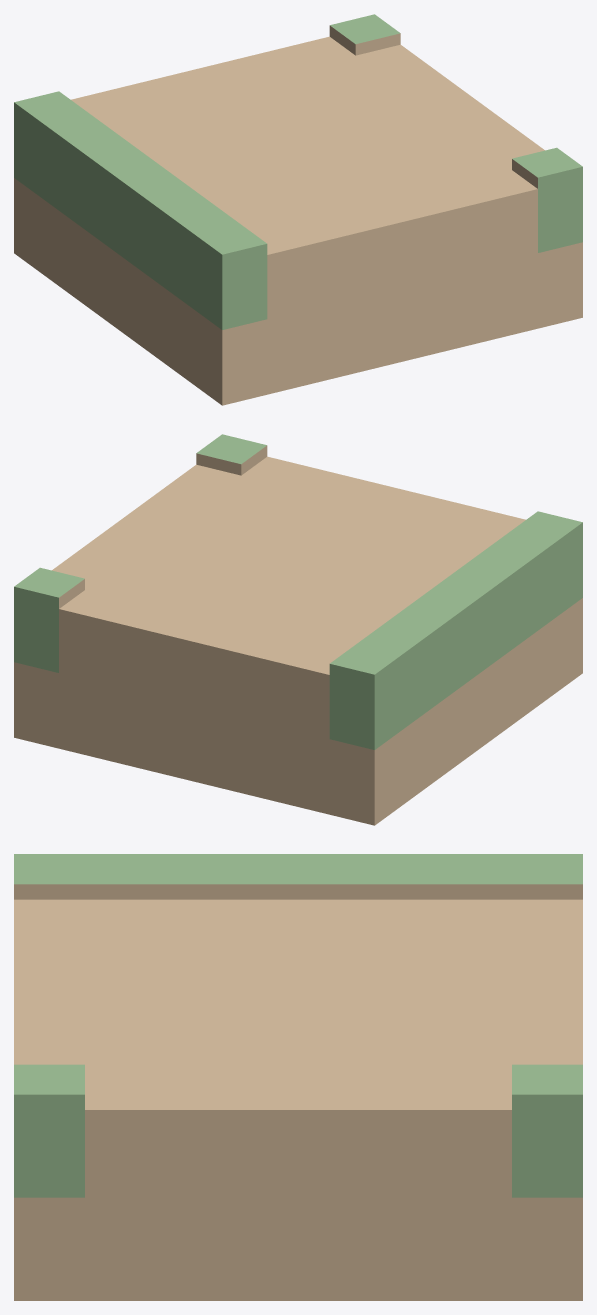
Rendered from tile_096.glb.
3 renders of one model, top to bottom at view 1: azimuth 30°, elevation 25°; view 2: azimuth 150°, elevation 25°; view 3: azimuth 270°, elevation 25°, orthographic. The views are drawn at different scales.
Parts seen in each view (by area): view 1: tile_096; view 2: tile_096; view 3: tile_096.
Part boxes in pixels (<box>): tile_096: <box>14,14,582,405</box>; tile_096: <box>14,434,582,825</box>; tile_096: <box>14,854,582,1300</box>.
Size of the model in its own units: 1 by 0.4 by 1.
